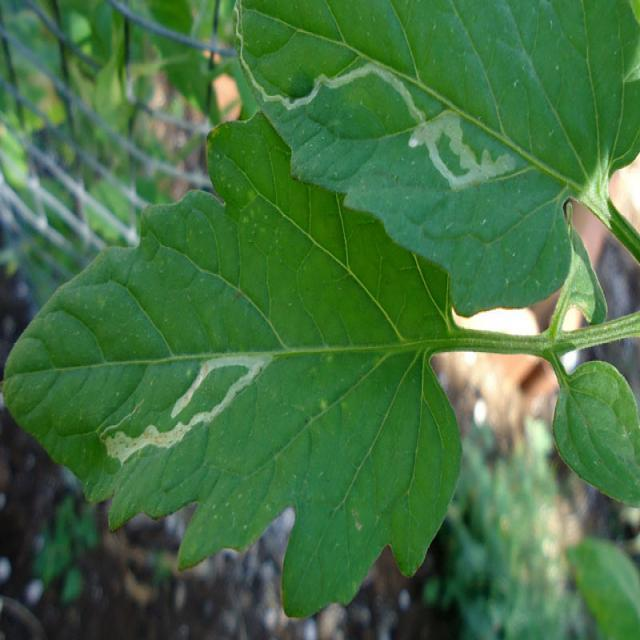Tomato healthy leaf: (554, 358, 640, 508)
Tomato target spot leaf: (5, 118, 462, 621), (236, 0, 640, 317)
